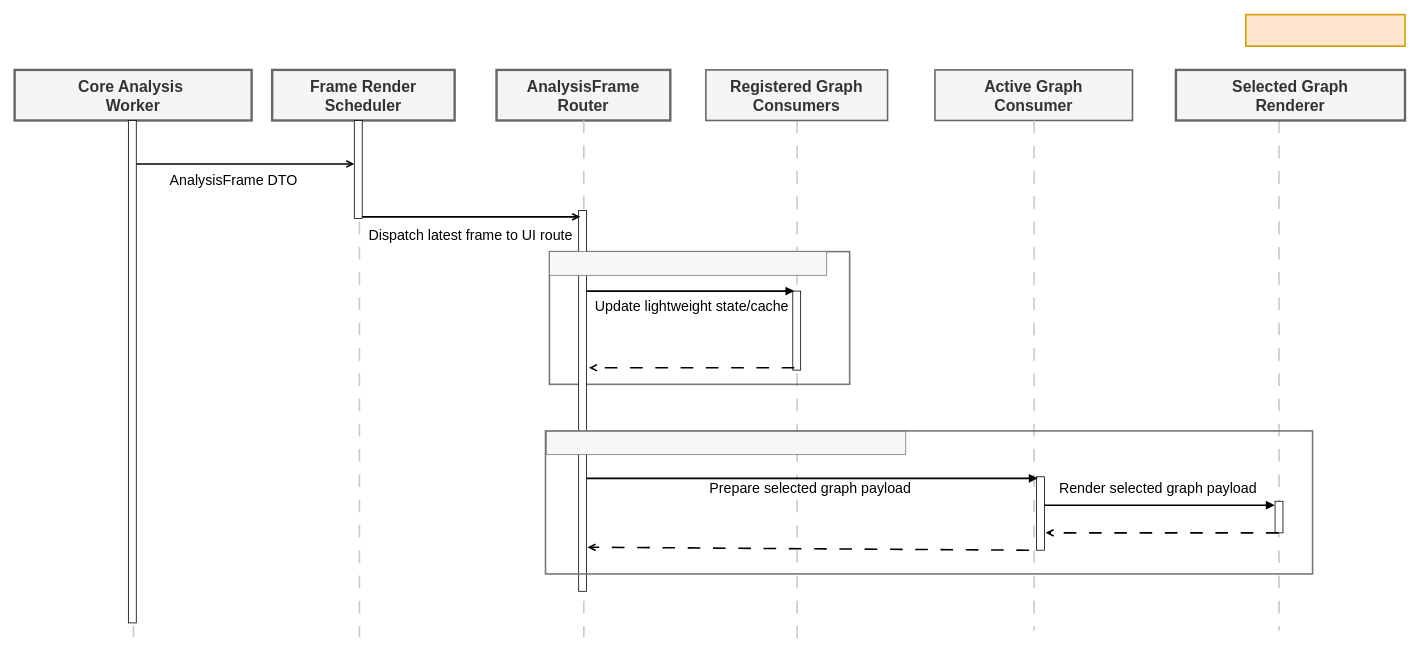
Image size: 1420x653. Some labels were removed from this diagram. The shapes that lost their labels are listed below. From the top down, each one's centre as x and y in pixels, then its label:
At [1325,30]: "UML Notation".
At [688,263]: "loop [all registered consumers]".
At [725,442]: "alt [active consumer selected by activeTabId]".
